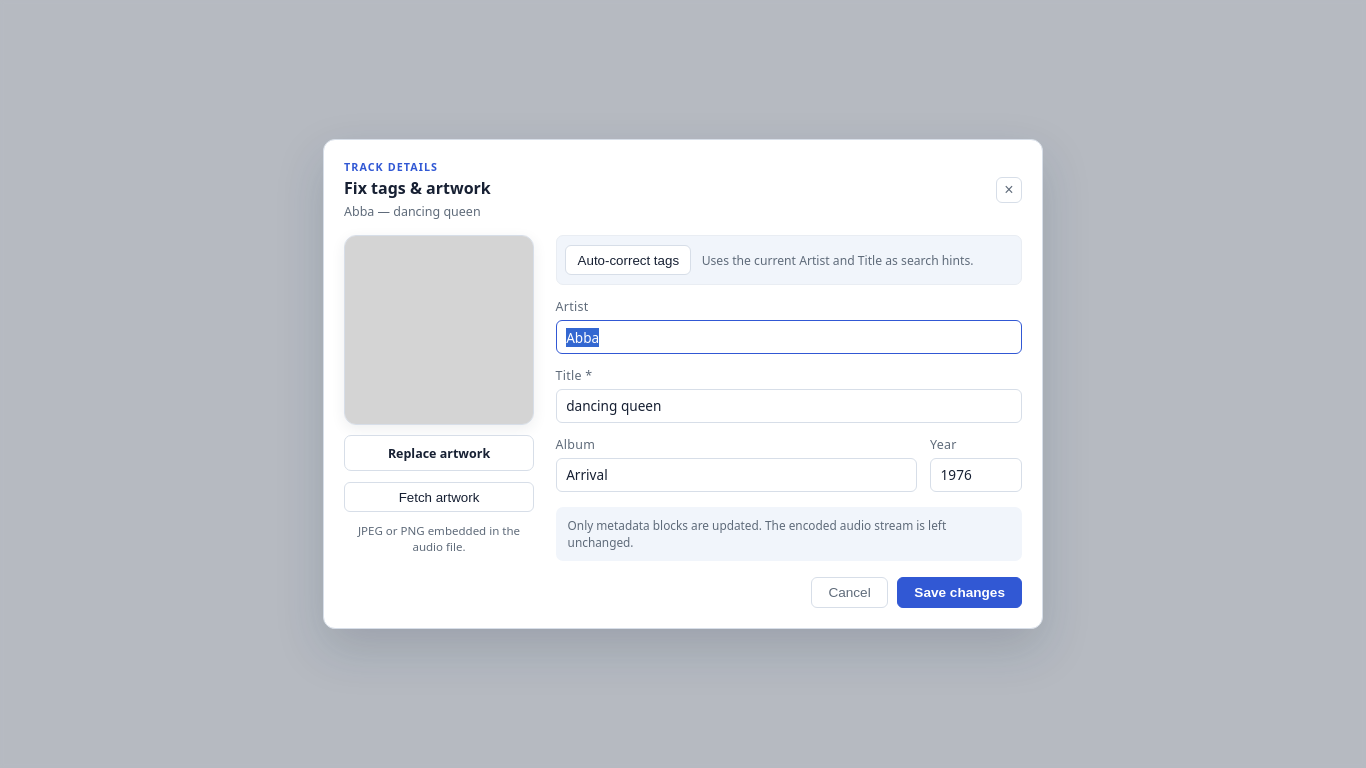
Test: TagsDialog › stages auto-corrected tags for review without saving them
Click the button "Auto-correct tags": (628, 260) [565,245,691,275]
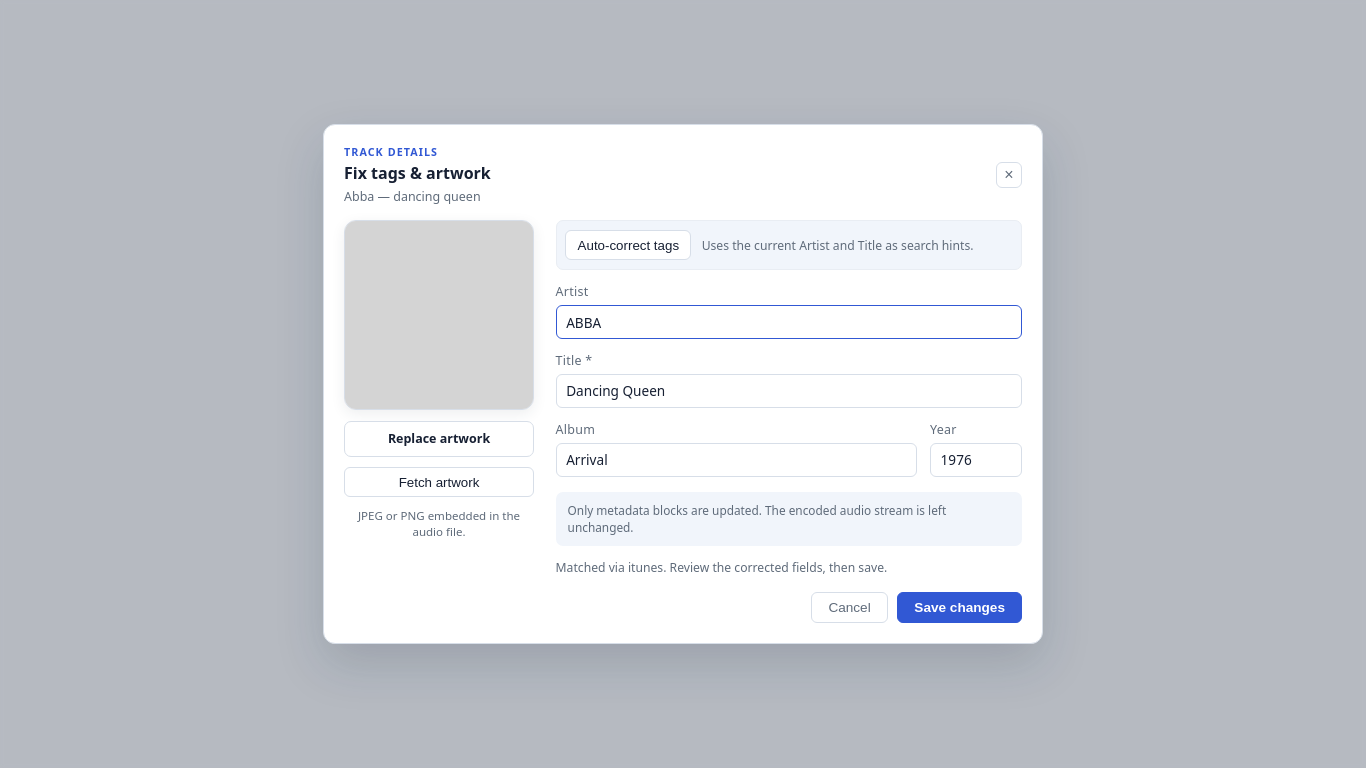
Check: the field labelled "Artist" holds "ABBA", box [556,305,1022,339]
Check: the field labelled "Title *" holds "Dancing Queen", box [556,374,1022,408]
Check: the text "Matched via itunes. Review the corrected fields, then save." is shown, box [556,559,887,576]
